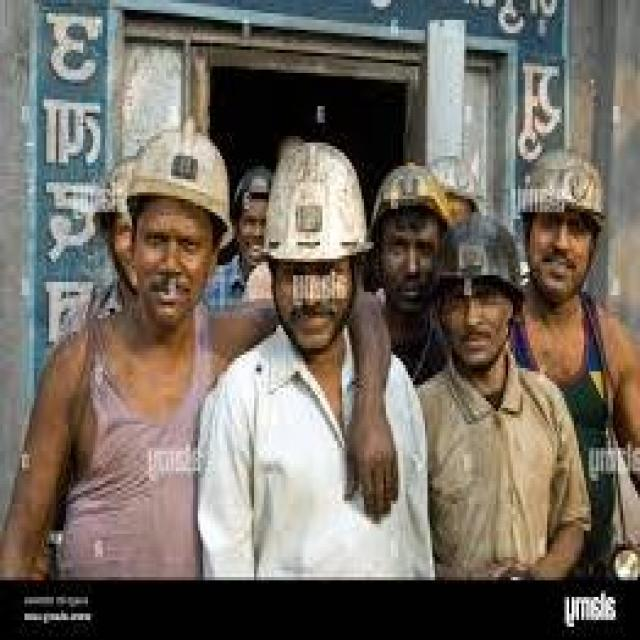Safety-Helmet: (103, 119, 240, 242), (259, 133, 374, 272), (508, 146, 623, 232), (371, 156, 469, 232)
